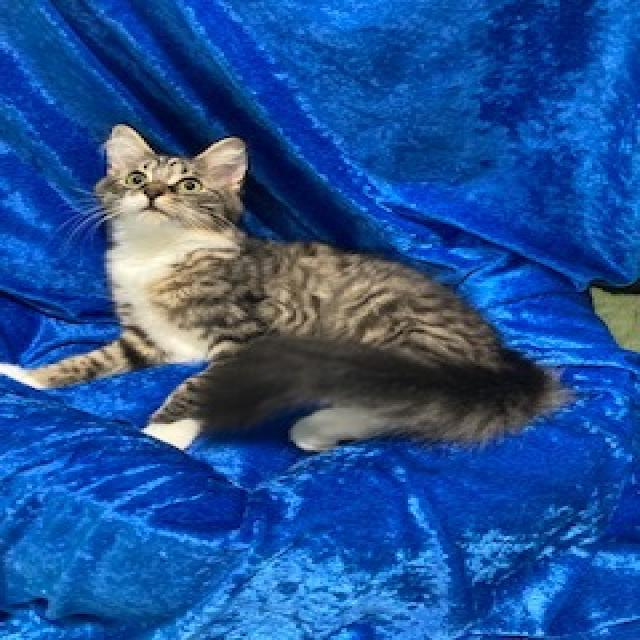maine_coon_cat: (69, 120, 268, 260)
